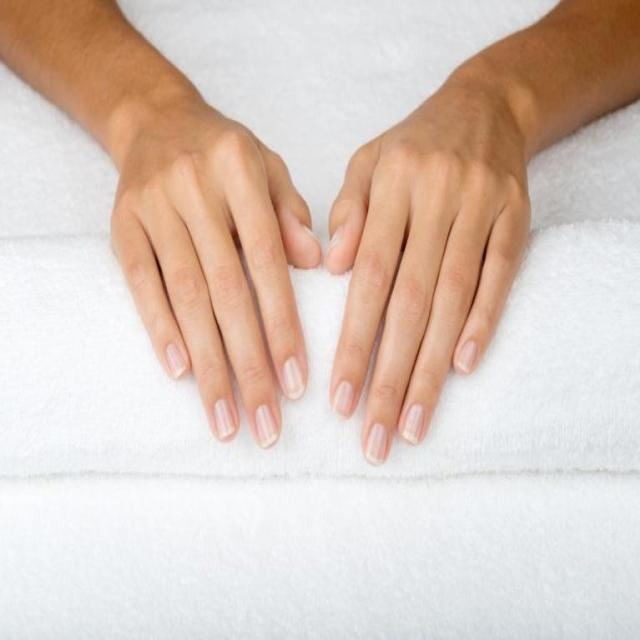Nail: (364, 422, 388, 466), (254, 404, 278, 447), (283, 356, 306, 399), (214, 398, 236, 440), (332, 381, 355, 420), (403, 403, 424, 444), (166, 342, 187, 380), (324, 227, 344, 265), (457, 339, 478, 375), (302, 224, 322, 257)
